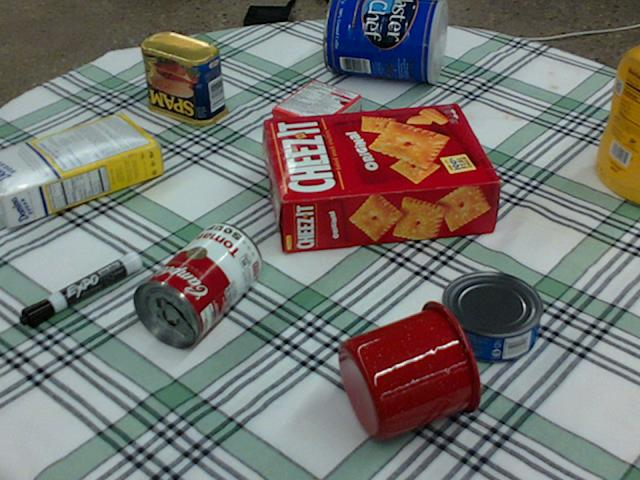cracker_box: (266, 103, 499, 251)
gelatin_box: (270, 77, 360, 145)
large_marker: (17, 251, 140, 328)
master_chef_can: (323, 0, 445, 82)
mug: (337, 297, 484, 441)
mustard_bottle: (594, 43, 639, 204)
potted_meat_can: (140, 32, 227, 125)
sugar_box: (0, 113, 161, 226)
tomato_soup_can: (132, 220, 262, 347)
tuna_fish_can: (442, 270, 544, 362)
